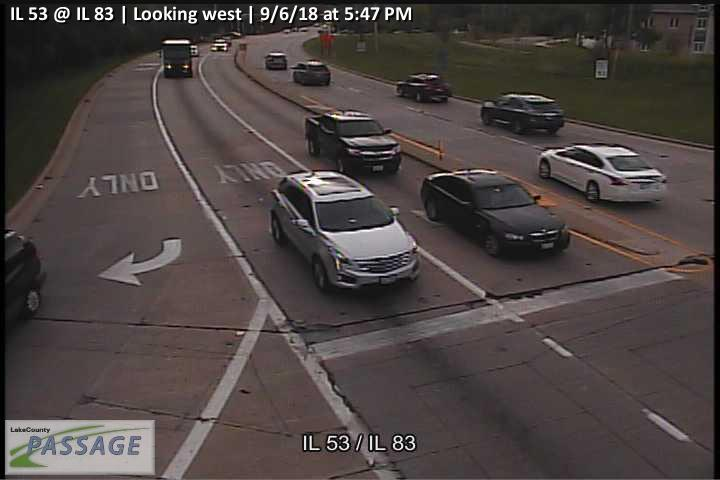Bus: (162, 40, 193, 78)
SUV: (269, 171, 420, 295), (481, 93, 565, 134), (396, 73, 451, 102), (289, 61, 331, 86), (264, 53, 288, 70), (210, 38, 228, 51)
Sedan: (421, 167, 570, 257), (536, 143, 667, 203)
Truck: (304, 109, 402, 173)
